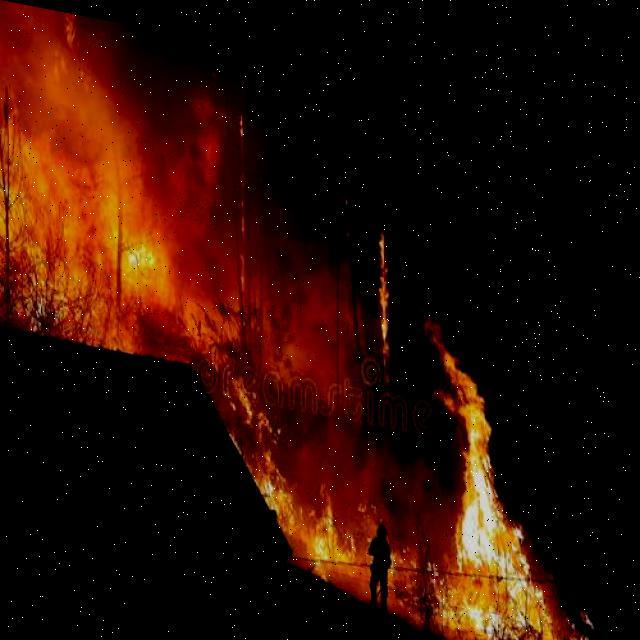Fire: (428, 305, 610, 639), (2, 80, 186, 353), (218, 316, 358, 576), (374, 208, 396, 370)
